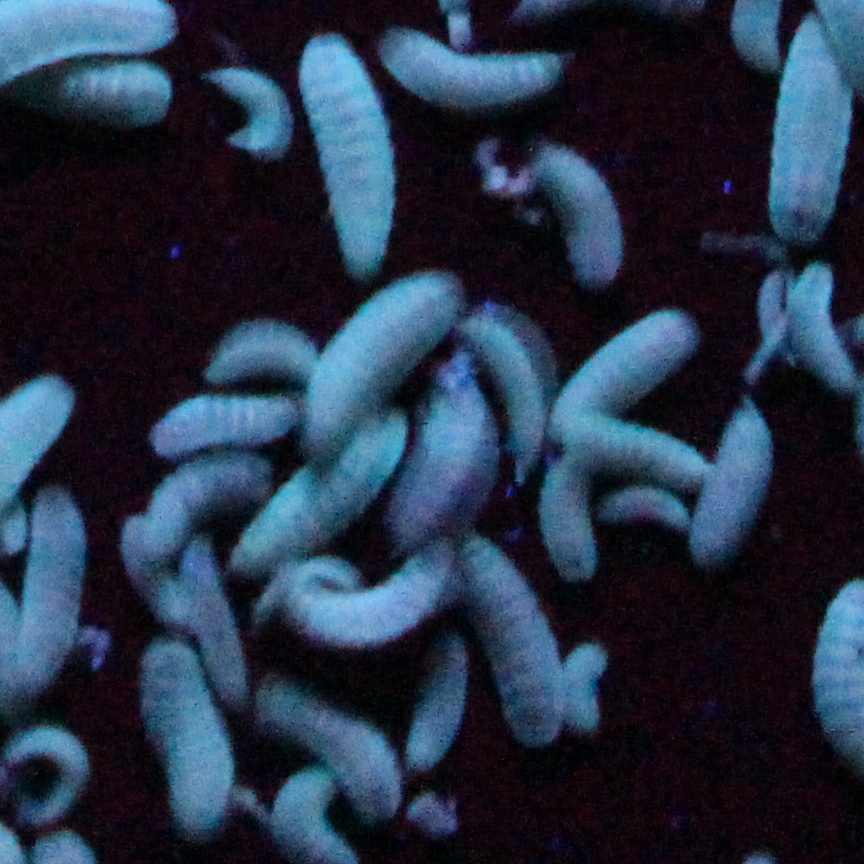larve: (301, 263, 468, 453), (286, 22, 403, 286), (117, 636, 260, 825), (538, 298, 703, 458), (452, 527, 563, 747), (355, 9, 576, 112), (252, 670, 403, 814), (277, 540, 462, 653), (767, 5, 852, 242), (454, 303, 561, 482), (681, 385, 773, 578), (128, 438, 277, 552), (135, 374, 311, 466), (530, 148, 637, 291), (191, 308, 330, 405), (783, 265, 862, 396), (199, 53, 298, 153), (556, 633, 608, 746)
